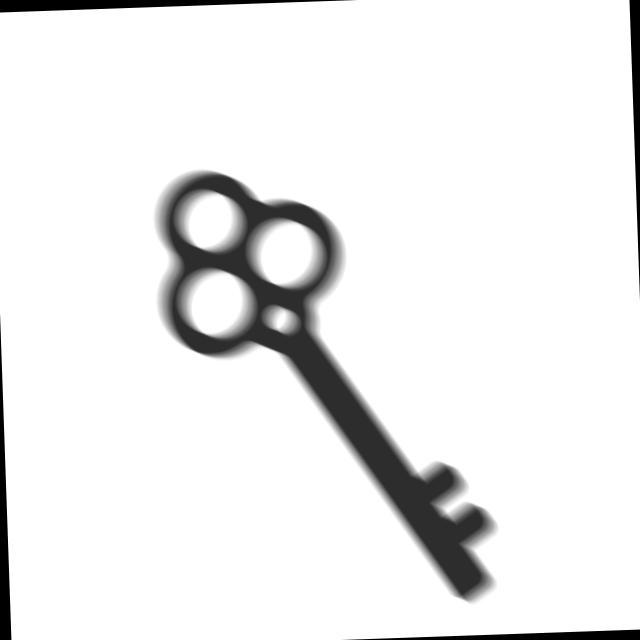key: (145, 155, 510, 619)
